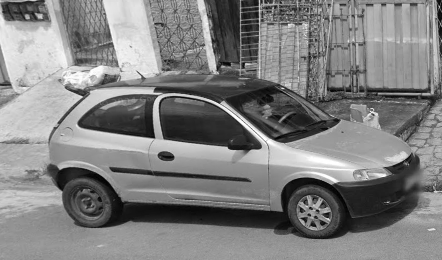car: (46, 75, 422, 241)
